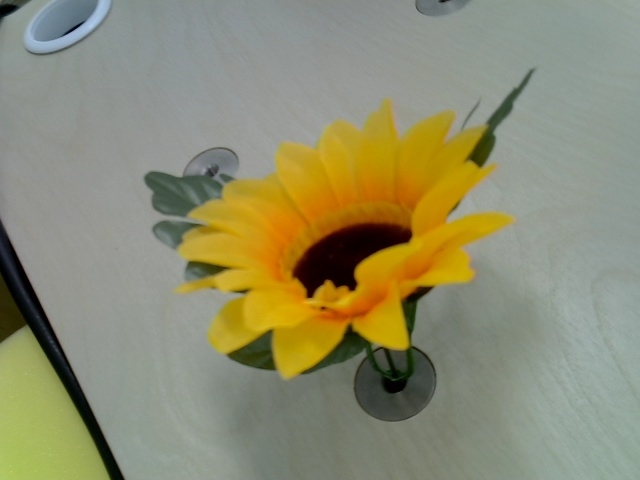해바라기: (180, 102, 513, 375)
